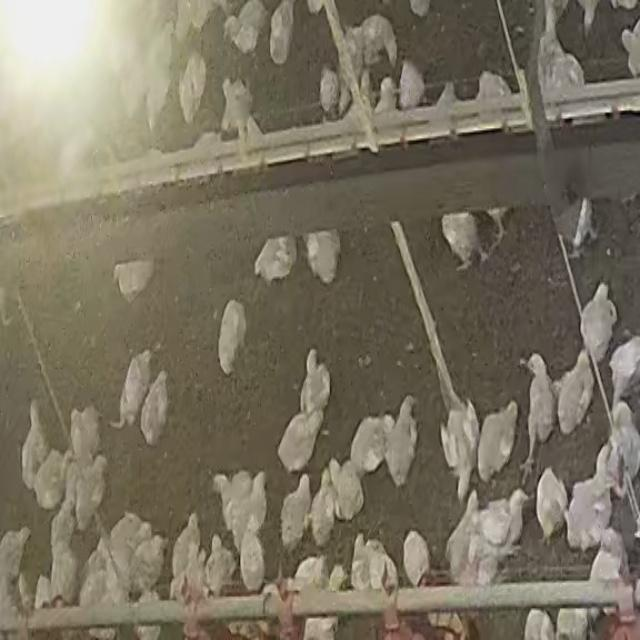chicken: (564, 443, 618, 549), (211, 470, 268, 559), (520, 352, 558, 474), (438, 401, 480, 504), (474, 401, 519, 487), (107, 351, 151, 434), (554, 351, 596, 437), (104, 509, 153, 581), (383, 396, 419, 488), (276, 406, 324, 475), (48, 504, 81, 602), (478, 488, 532, 547), (580, 279, 617, 363), (20, 400, 52, 497), (608, 402, 640, 495), (445, 492, 479, 579), (72, 453, 109, 531), (350, 535, 398, 594), (216, 294, 250, 377), (348, 414, 391, 476), (535, 466, 569, 543), (78, 538, 114, 610), (554, 200, 596, 261), (280, 473, 312, 552), (139, 369, 171, 447), (539, 44, 586, 96), (328, 455, 364, 522), (33, 447, 69, 513), (437, 214, 486, 262), (172, 512, 202, 590), (299, 348, 331, 420), (608, 336, 640, 408), (128, 534, 169, 590), (584, 529, 625, 584), (0, 525, 31, 596), (253, 236, 296, 286), (301, 229, 342, 281), (224, 2, 265, 54), (69, 402, 102, 464), (309, 469, 336, 544), (204, 533, 237, 594), (240, 524, 268, 594), (266, 0, 296, 65), (178, 52, 206, 120), (111, 260, 154, 304), (366, 12, 398, 66), (402, 529, 430, 585), (219, 78, 250, 128), (174, 0, 212, 40), (400, 55, 426, 109), (471, 70, 511, 102), (620, 16, 640, 76), (293, 555, 327, 588), (430, 82, 457, 123), (484, 207, 511, 244), (523, 607, 553, 640), (372, 79, 398, 114), (317, 68, 337, 113), (33, 573, 54, 611), (0, 287, 16, 328)
